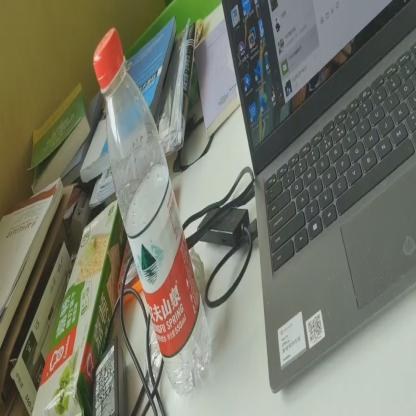Glass Bottle: (91, 19, 210, 401)
